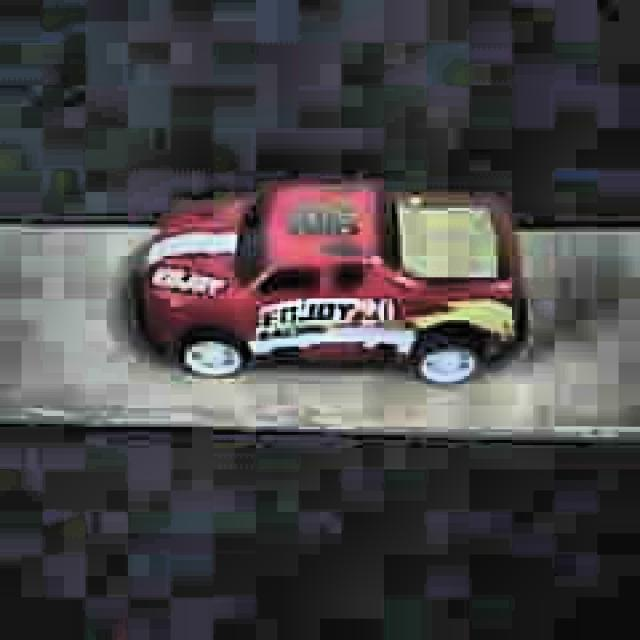car: (133, 175, 529, 389)
